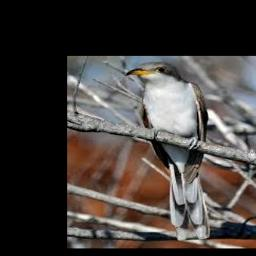Cuckoo: (126, 62, 209, 239)
